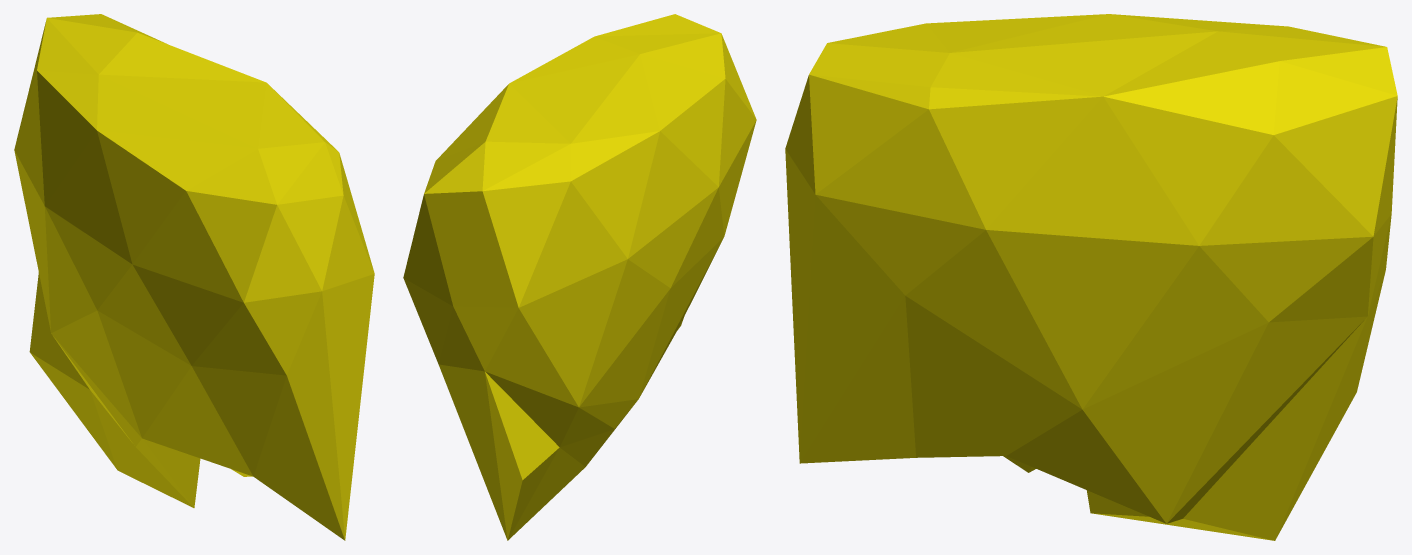
Rendered from level2rock3.fbx.
3 renders of one model, left to right at view 1: azimuth 30°, elevation 25°; view 2: azimuth 150°, elevation 25°; view 3: azimuth 270°, elevation 25°, orthographic. The views are drawn at different scales.
Visible parts, largest first — view 1: Icosphere.003; view 2: Icosphere.003; view 3: Icosphere.003.
Boxes of the visible parts, x1,y1,x2,y2 form: Icosphere.003: (14,14,374,540); Icosphere.003: (403,14,756,540); Icosphere.003: (785,14,1397,540).
Bounding box in the file's own units: 572 × 1105 × 1246.
